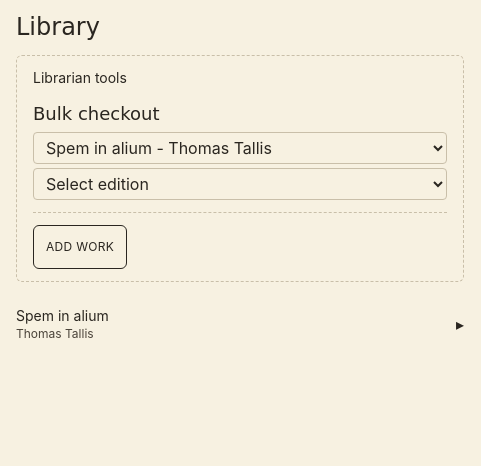
it: #75 — a11y: bulk checkout/return checkboxes are labeled › bulk checkout section contains checkboxes with aria-label or associated <label>
This screenshot has width=481, height=466.
Select an edition to reveal the member checkboxes
Select "Urtext edition" in the dropdown with test id "bulk-checkout-edition-select" at [240, 184], box [33,168,447,200]
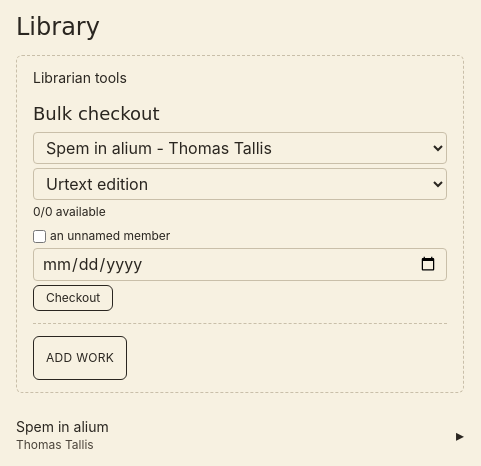
Expected: the element with test id "bulk-checkout-member-list" is shown, [33,228,170,243]
Expected: the checkbox labelled "an unnamed member" is shown, [33,230,46,242]
